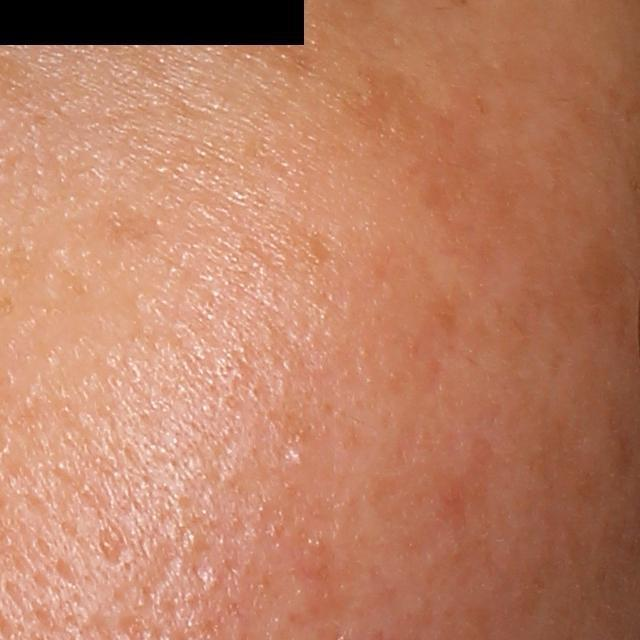melasma: (336, 62, 434, 160), (238, 6, 323, 77), (571, 228, 626, 297)
